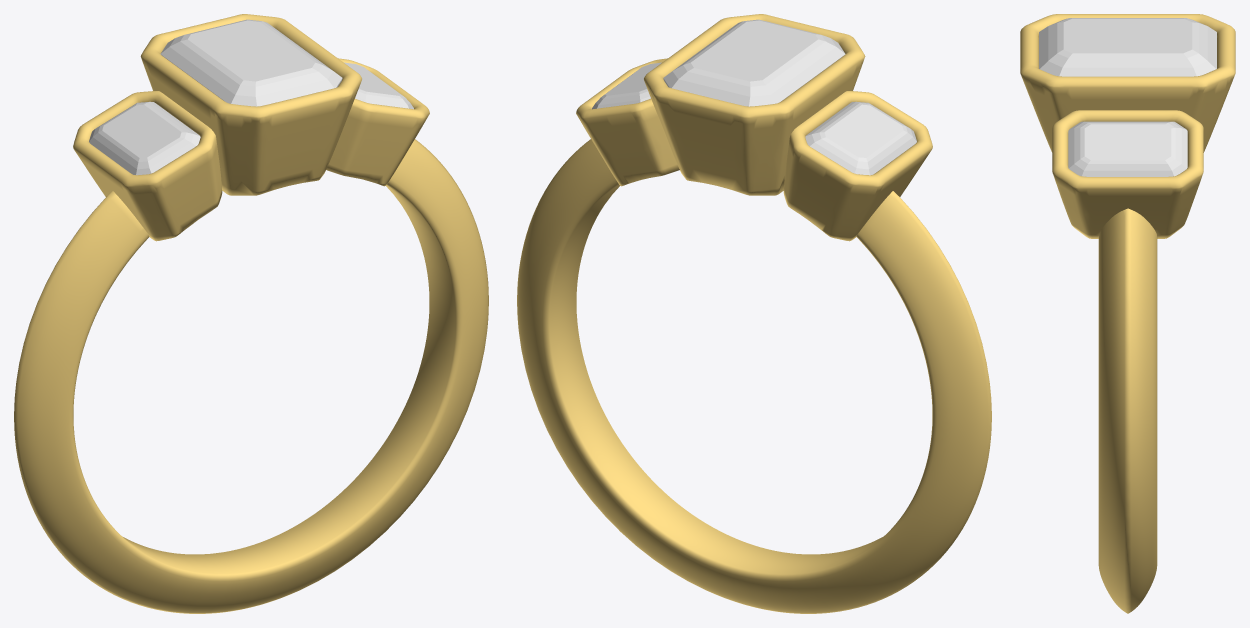
Rendered from diamond-emerald-yellowgold-bezelset-knifeedge-3stone.glb.
3 renders of one model, left to right at view 1: azimuth 30°, elevation 25°; view 2: azimuth 150°, elevation 25°; view 3: azimuth 270°, elevation 25°, orthographic.
Parts seen in each view (by area): view 1: metal.001, stone.001, side.001, side.005; view 2: metal.001, stone.001, side.001, side.005; view 3: metal.001, stone.001, side.005.
Part boxes in pixels (left/top/right/bottom): metal.001: left=14, top=14, right=488, bottom=613; stone.001: left=160, top=19, right=342, bottom=106; side.001: left=89, top=101, right=200, bottom=175; side.005: left=344, top=62, right=413, bottom=109; metal.001: left=517, top=14, right=991, bottom=613; stone.001: left=663, top=19, right=845, bottom=106; side.001: left=805, top=101, right=916, bottom=175; side.005: left=592, top=62, right=661, bottom=109; metal.001: left=1020, top=14, right=1235, bottom=613; stone.001: left=1039, top=18, right=1216, bottom=76; side.005: left=1068, top=121, right=1187, bottom=176.
Size of the model in its own units: 20.5 by 22.94 by 8.11.
